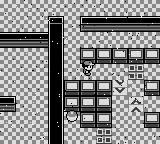main: (82, 61, 95, 74)
no-caminable: (64, 80, 111, 128), (48, 16, 64, 143), (82, 49, 160, 64), (81, 17, 159, 32), (1, 33, 48, 47), (144, 113, 160, 127), (144, 81, 160, 95), (1, 97, 15, 111)
poke-ball: (66, 111, 78, 121)
salto: (112, 79, 126, 96), (129, 98, 143, 112)
